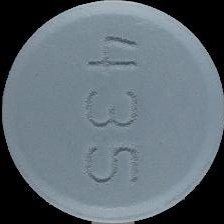67046-076: (0, 0, 224, 224)
